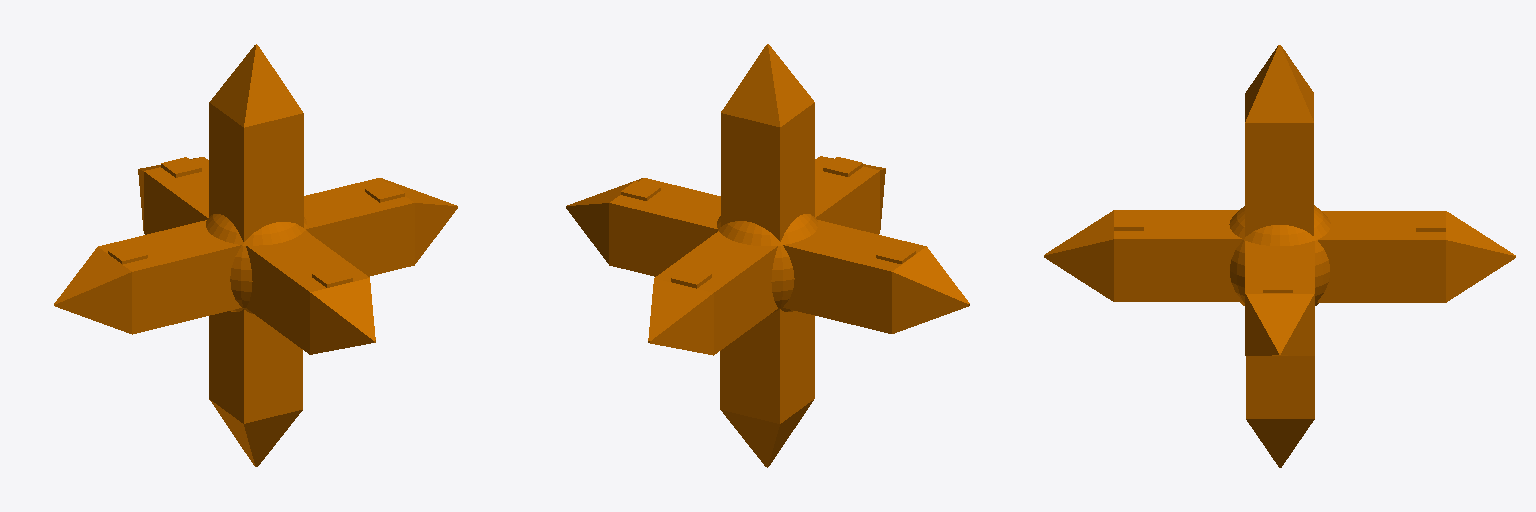
The model's file is star.obj.
The picture shows the model from 3 angles: view 1: azimuth 30°, elevation 25°; view 2: azimuth 150°, elevation 25°; view 3: azimuth 270°, elevation 25°; orthographic projection.
Visible parts, largest first — view 1: Cube.002_Cube.007; view 2: Cube.002_Cube.007; view 3: Cube.002_Cube.007.
Boxes of the visible parts, x1=… form: Cube.002_Cube.007: x1=54, y1=44, x2=457, y2=466; Cube.002_Cube.007: x1=566, y1=44, x2=969, y2=467; Cube.002_Cube.007: x1=1044, y1=45, x2=1515, y2=467.
Size of the model in its own units: 1 by 1.01 by 1.02.